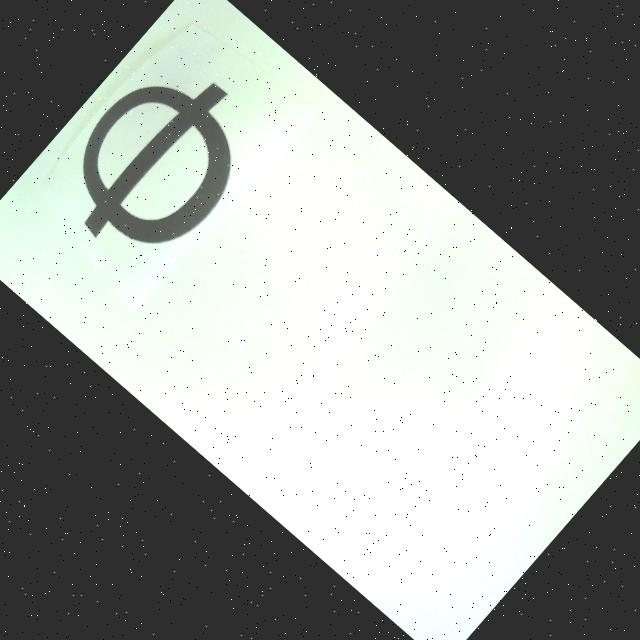PHI: (39, 42, 277, 285)
